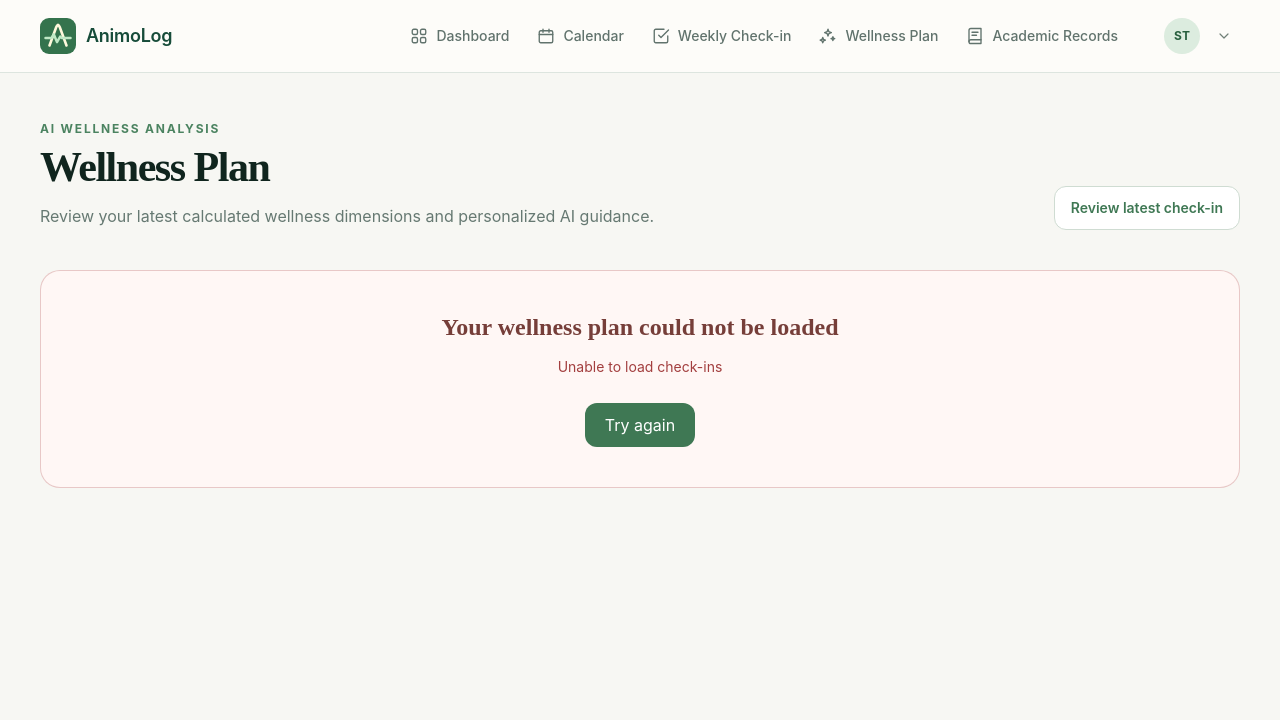
Test case: Wellness Plan live data › shows a retryable load error
This screenshot has width=1280, height=720.
Check: the message shows "Unable to load check-ins", box [558,358,722,375]
Click the button "Try again": (640, 425) [585,403,695,447]
(page scrolled)
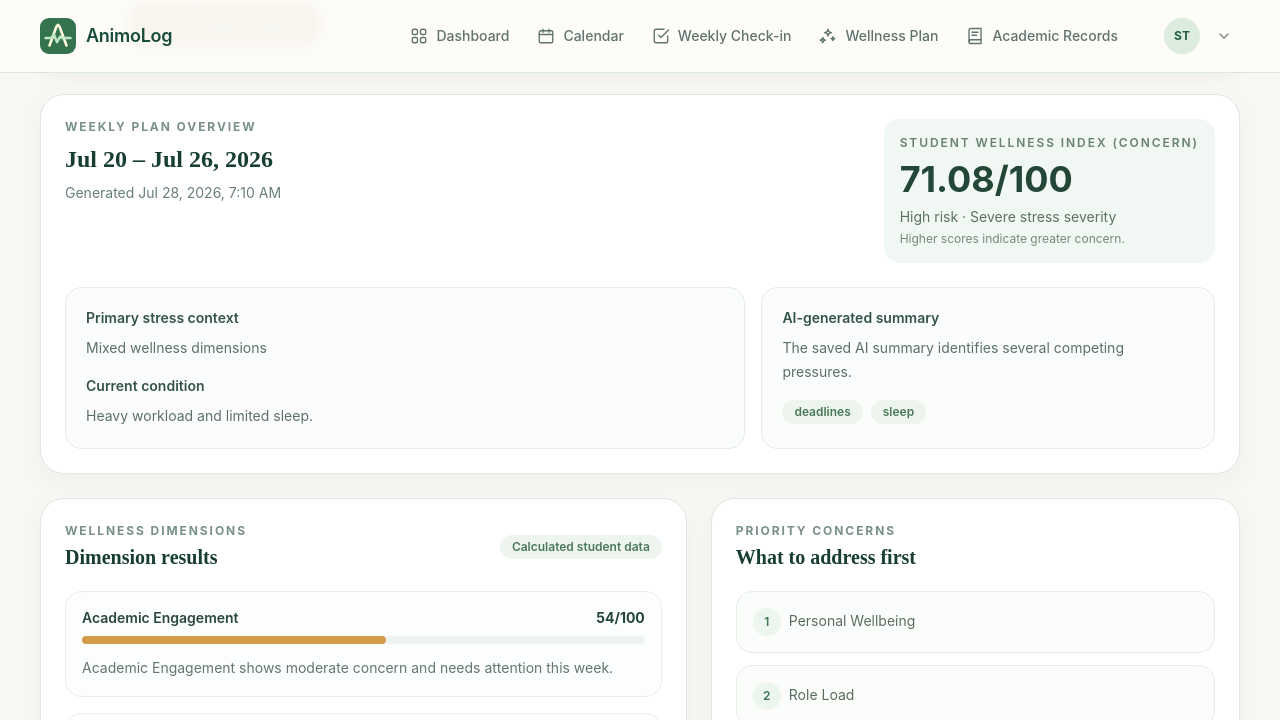
Check: the text "The saved AI summary identifies several competing pressures." is shown, box [782,339,1124,380]
